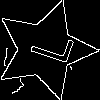L: (20, 24, 75, 66)
